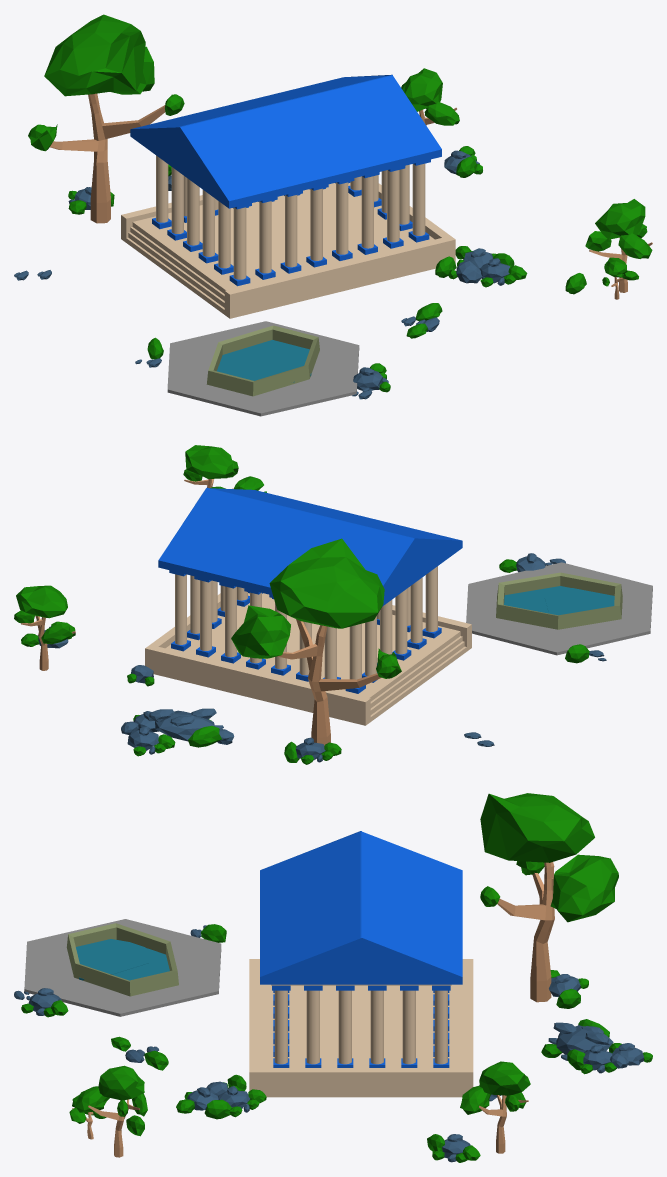
Rendered from Temple eau.fbx.
The picture shows the model from 3 angles, top to bottom: view 1: azimuth 30°, elevation 25°; view 2: azimuth 150°, elevation 25°; view 3: azimuth 270°, elevation 25°; orthographic projection. The views are drawn at different scales.
Parts seen in each view (by area): view 1: Cube.063; view 2: Cube.063; view 3: Cube.063.
Boxes of the visible parts, x1,y1,x2,y2 form: Cube.063: (14, 14, 652, 416); Cube.063: (14, 445, 652, 764); Cube.063: (14, 793, 652, 1162).
Size of the model in its own units: 12.67 by 14.25 by 5.13.
